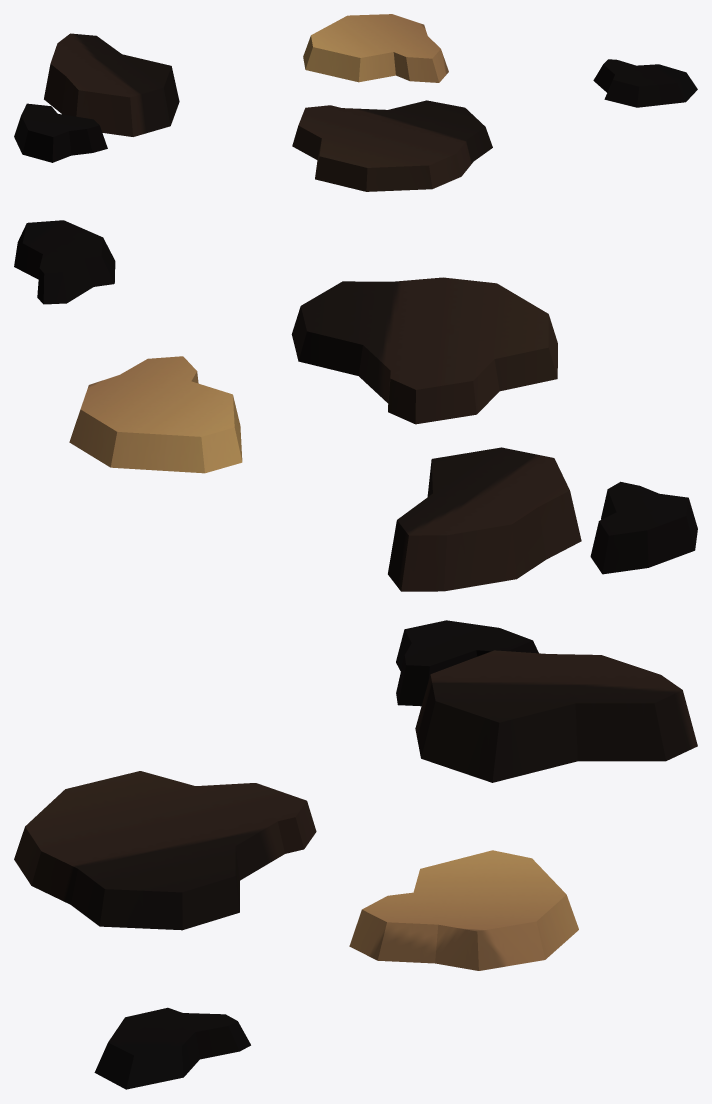
File: SM_Env_Highway_Rubble_05.fbx
3 renders of one model, top to bottom at view 1: azimuth 30°, elevation 25°; view 2: azimuth 150°, elevation 25°; view 3: azimuth 270°, elevation 25°, orthographic. The views are drawn at different scales.
Parts seen in each view (by area): view 1: SM_Env_Highway_Rubble_05; view 2: SM_Env_Highway_Rubble_05; view 3: SM_Env_Highway_Rubble_05.
Boxes of the visible parts, <box> form: SM_Env_Highway_Rubble_05: <box>14,14,697,191</box>; SM_Env_Highway_Rubble_05: <box>14,220,697,591</box>; SM_Env_Highway_Rubble_05: <box>14,620,697,1089</box>.
Bounding box in the file's own units: 686 × 40.82 × 453.
